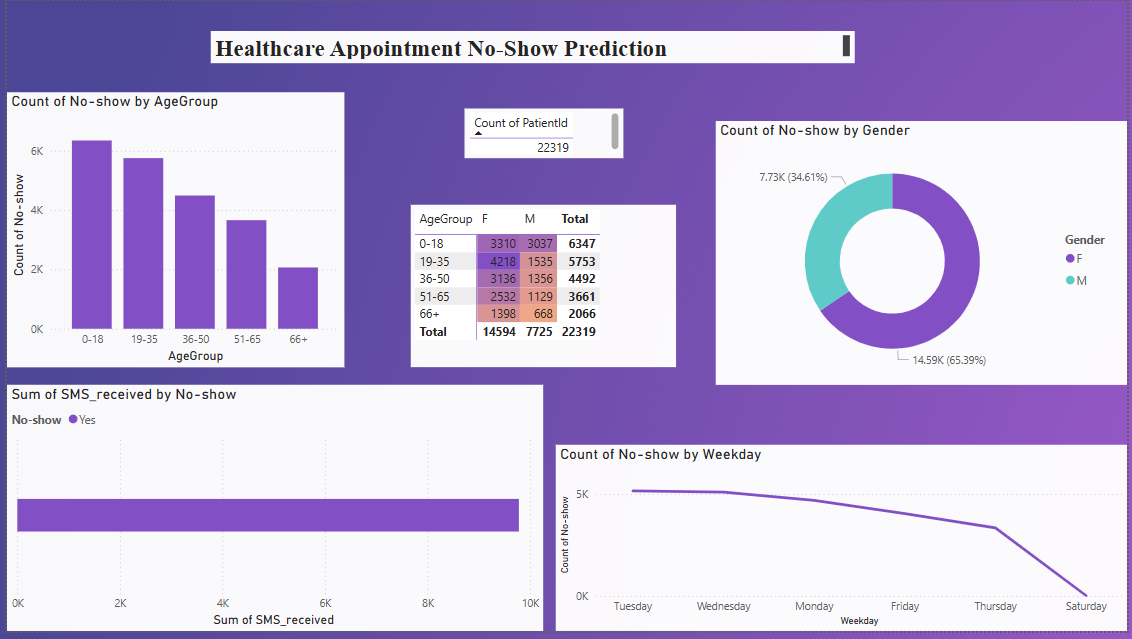

The dashboard page shown, as its layout file describes it:
{"tool":"powerbi","page":{"name":"Page 1","canvas":[1280,720],"ordinal":0},"visuals":[{"type":"tableEx","fields":{"Values":["CountNonNull(KaggleV2-May-2016  dataset.PatientId)"]},"box":[522.9,122.9,181.4,57.1],"z":0},{"type":"clusteredColumnChart","fields":{"Category":["KaggleV2-May-2016  dataset.AgeGroup"],"Y":["CountNonNull(KaggleV2-May-2016  dataset.No-show)"]},"box":[0,104.3,385.7,314.3],"z":1000},{"type":"donutChart","fields":{"Category":["KaggleV2-May-2016  dataset.Gender"],"Y":["CountNonNull(KaggleV2-May-2016  dataset.No-show)"]},"box":[810,137.1,470,301.4],"z":2000},{"type":"barChart","fields":{"Series":["KaggleV2-May-2016  dataset.No-show"],"Y":["Sum(KaggleV2-May-2016  dataset.SMS_received)"]},"box":[0,438.6,612.9,281.4],"z":3000},{"type":"lineChart","fields":{"Category":["KaggleV2-May-2016  dataset.Weekday"],"Y":["CountNonNull(KaggleV2-May-2016  dataset.No-show)"]},"box":[627.1,507.1,652.9,212.9],"z":4000},{"type":"pivotTable","fields":{"Columns":["KaggleV2-May-2016  dataset.Gender"],"Values":["CountNonNull(KaggleV2-May-2016  dataset.No-show)"],"Rows":["KaggleV2-May-2016  dataset.AgeGroup"]},"box":[461.4,232.9,302.9,185.7],"z":5000},{"type":"textbox","box":[232.9,34.3,738.6,37.1],"z":5001}]}

Visuals, with their boxes in screenshot pixels (x1, y1, x2, y2), scaled from the page's 1280x720 canvas onto the 1132x639 screenshot:
tableEx - CountNonNull(KaggleV2-May-2016  dataset.PatientId): select_region(462, 109, 623, 160)
clusteredColumnChart - KaggleV2-May-2016  dataset.AgeGroup x CountNonNull(KaggleV2-May-2016  dataset.No-show): select_region(0, 93, 341, 372)
donutChart - KaggleV2-May-2016  dataset.Gender x CountNonNull(KaggleV2-May-2016  dataset.No-show): select_region(716, 122, 1131, 389)
barChart - KaggleV2-May-2016  dataset.No-show x Sum(KaggleV2-May-2016  dataset.SMS_received): select_region(0, 389, 542, 638)
lineChart - KaggleV2-May-2016  dataset.Weekday x CountNonNull(KaggleV2-May-2016  dataset.No-show): select_region(555, 450, 1131, 638)
pivotTable - KaggleV2-May-2016  dataset.Gender x CountNonNull(KaggleV2-May-2016  dataset.No-show): select_region(408, 207, 676, 372)
textbox: select_region(206, 30, 859, 63)
